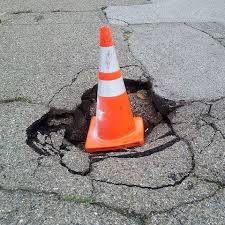pothole: (28, 75, 195, 173)
